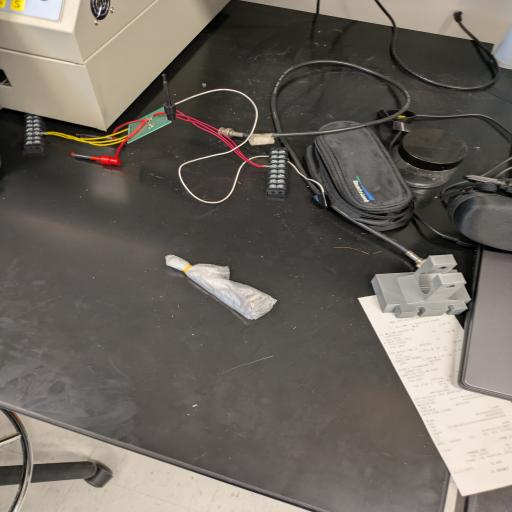rubberband: (161, 254, 280, 322)
